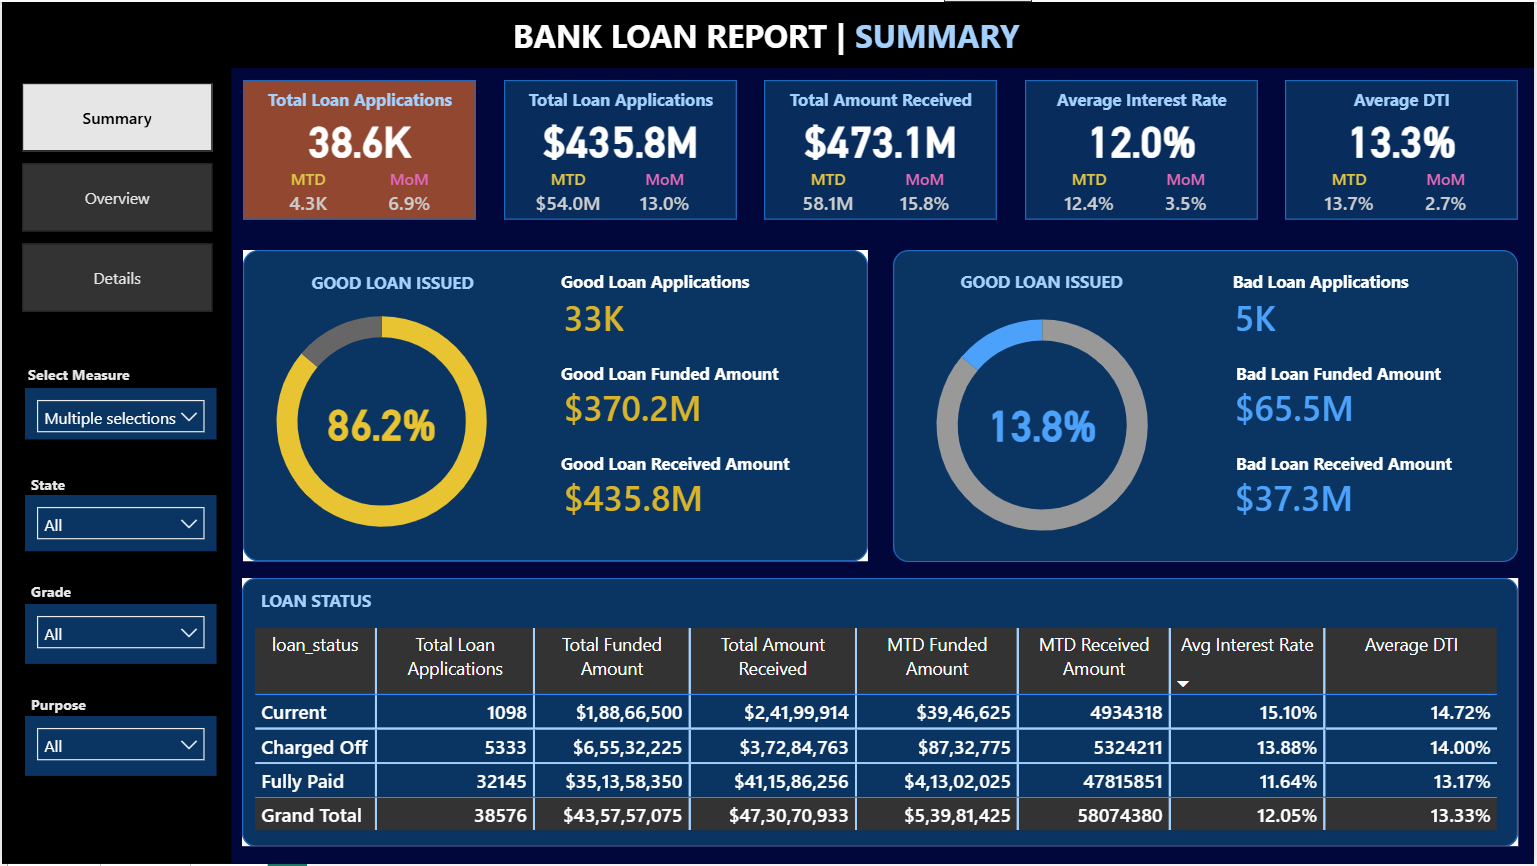

The dashboard page shown, as its layout file describes it:
{"tool":"powerbi","page":{"name":"Summary","canvas":[1280,720],"ordinal":0},"visuals":[{"type":"shape","box":[0,55.4,191.6,664.3],"z":0},{"type":"shape","box":[201.3,65.2,194.5,116.7],"z":0,"group":"g2"},{"type":"shape","box":[419,65.2,194.5,116.7],"z":0,"group":"g1"},{"type":"shape","box":[636.6,65.2,194.5,116.7],"z":0,"group":"g4"},{"type":"shape","box":[854.2,65.2,194.5,116.7],"z":0,"group":"g5"},{"type":"shape","box":[1071.9,65.2,194.5,116.7],"z":0,"group":"g6"},{"type":"card","fields":{"Values":["Bank_Loan_Data.Total Loan Applications"]},"box":[201.3,91.5,194.5,45.7],"z":1000,"group":"g2"},{"type":"card","fields":{"Values":["Bank_Loan_Data.Total FUnded Amount"]},"box":[419,91.5,194.5,45.7],"z":1000,"group":"g1"},{"type":"card","fields":{"Values":["Bank_Loan_Data.Total Amount Received"]},"box":[636.6,91.5,194.5,45.7],"z":1000,"group":"g4"},{"type":"card","fields":{"Values":["Bank_Loan_Data.Avg Interest Rate"]},"box":[854.2,91.5,194.5,45.7],"z":1000,"group":"g5"},{"type":"card","fields":{"Values":["Bank_Loan_Data.Average DTI"]},"box":[1071.9,91.5,194.5,45.7],"z":1000,"group":"g6"},{"type":"shape","box":[200.4,481.5,1065.8,224.3],"z":1000},{"type":"shape","box":[0,0,1280,55],"z":2000},{"type":"textbox","box":[211,67.1,175.1,33.1],"z":2000,"group":"g2"},{"type":"textbox","box":[428.7,67.1,175.1,33.1],"z":2000,"group":"g1"},{"type":"textbox","box":[646.3,67.1,175.1,33.1],"z":2000,"group":"g4"},{"type":"textbox","box":[863.9,67.1,175.1,33.1],"z":2000,"group":"g5"},{"type":"textbox","box":[1081.6,67.1,175.1,33.1],"z":2000,"group":"g6"},{"type":"card","title":"MTD","fields":{"Values":["Bank_Loan_Data.MTD Loan Applications"]},"box":[234,139,43.8,44.7],"z":3000,"group":"g2"},{"type":"card","title":"MTD","fields":{"Values":["Bank_Loan_Data.MTD Funded Amount"]},"box":[439.1,139,67.1,42.8],"z":3000,"group":"g1"},{"type":"card","title":"MTD","fields":{"Values":["Bank_Loan_Data.MTD Received Amount"]},"box":[656.7,139,67.1,42.8],"z":3000,"group":"g4"},{"type":"card","title":"MTD","fields":{"Values":["Bank_Loan_Data.MTD Avg Interest Rate"]},"box":[874.3,139,67.1,42.8],"z":3000,"group":"g5"},{"type":"card","title":"MTD","fields":{"Values":["Bank_Loan_Data.MTD Avg DTI"]},"box":[1092,139,67.1,42.8],"z":3000,"group":"g6"},{"type":"shape","box":[201.3,207.2,522,260],"z":3000},{"type":"card","title":"MoM","fields":{"Values":["Bank_Loan_Data.MoM Loan Application"]},"box":[317.7,139,45.7,44.7],"z":4000,"group":"g2"},{"type":"card","title":"MoM","fields":{"Values":["Bank_Loan_Data.MoM Total Funded Amount"]},"box":[527.3,139,51.6,42.8],"z":4000,"group":"g1"},{"type":"card","title":"MoM","fields":{"Values":["Bank_Loan_Data.MoM Total Received Amount"]},"box":[744.9,139,51.6,42.8],"z":4000,"group":"g4"},{"type":"card","title":"MoM","fields":{"Values":["Bank_Loan_Data.Mom Average Interest"]},"box":[962.5,139,51.6,42.8],"z":4000,"group":"g5"},{"type":"card","title":"MoM","fields":{"Values":["Bank_Loan_Data.MoM Avg Interest Rate"]},"box":[1180.2,139,51.6,42.8],"z":4000,"group":"g6"},{"type":"shape","box":[743.9,207.5,522.3,260.7],"z":4000},{"type":"textbox","box":[1014.4,219,174.7,32.8],"z":5000},{"type":"group","id":"g1","title":"Group 2","box":[419,65.2,194.5,116.7],"z":5001,"group":"g3"},{"type":"textbox","box":[462,370.6,215.5,32.8],"z":6000},{"type":"textbox","box":[462,295.3,207.5,33.7],"z":7000},{"type":"textbox","box":[462,219,174.7,32.8],"z":8000},{"type":"card","fields":{"Values":["Bank_Loan_Data.Good Loan %"]},"box":[259.8,328.1,114.4,45.2],"z":9000},{"type":"textbox","box":[239.2,219.5,174.7,33.1],"z":10000},{"type":"textbox","box":[422.1,3.9,435.7,46.7],"z":11000},{"type":"group","id":"g2","title":"Group 1","box":[201.3,65.2,194.5,118.5],"z":12000},{"type":"group","id":"g3","title":"Group 1","box":[419,65.2,194.5,116.7],"z":13000},{"type":"group","id":"g4","title":"Group 2","box":[636.6,65.2,194.5,116.7],"z":14000},{"type":"group","id":"g5","title":"Group 2","box":[854.2,65.2,194.5,116.7],"z":15000},{"type":"donutChart","fields":{"Category":["Bank_Loan_Data.Good vs Bad loan"],"Y":["Bank_Loan_Data.Total Loan Applications"]},"box":[192.4,235.9,250,229.7],"z":16000},{"type":"group","id":"g6","title":"Group 2","box":[1071.9,65.2,194.5,116.7],"z":17000},{"type":"cardVisual","fields":{"Data":["Bank_Loan_Data.Good Loan Applications","Bank_Loan_Data.Good Loan Funded Amount","Bank_Loan_Data.Good Loan Received Amount"]},"box":[445.1,219,180.9,235.9],"z":18000},{"type":"donutChart","fields":{"Category":["Bank_Loan_Data.Good vs Bad loan"],"Y":["Bank_Loan_Data.Total Loan Applications"]},"box":[743.9,237.6,249.2,230.5],"z":19000},{"type":"textbox","box":[781.2,219,174.7,32.8],"z":20000},{"type":"card","fields":{"Values":["Bank_Loan_Data.Bad Loan %"]},"box":[811.3,328.1,115.3,46.1],"z":21000},{"type":"cardVisual","fields":{"Data":["Bank_Loan_Data.Bad Loan Applications","Bank_Loan_Data.Bad Loan Funded Amount","Bank_Loan_Data.Bad Loan Received Amount"]},"box":[1005.5,219,153.4,235.9],"z":22000},{"type":"textbox","box":[1025.9,295.3,197.7,32.8],"z":23000},{"type":"textbox","box":[1025.9,370.6,197.7,32.8],"z":24000},{"type":"tableEx","fields":{"Values":["Bank_Loan_Data.loan_status","Bank_Loan_Data.Total Loan Applications","Bank_Loan_Data.Total Funded Amount","Bank_Loan_Data.Total Amount Received","Bank_Loan_Data.MTD Funded Amount","Bank_Loan_Data.MTD Received Amount","Bank_Loan_Data.Avg Interest Rate","Bank_Loan_Data.Average DTI"]},"box":[205.7,517.8,1055.2,188],"z":25000},{"type":"textbox","box":[211,485,174.7,32.8],"z":26000},{"type":"slicer","fields":{"Values":["Bank_Loan_Data.address_state"]},"box":[19.5,411.4,159.6,47],"z":27000},{"type":"textbox","box":[19.5,477.9,50.5,32.8],"z":28000},{"type":"textbox","box":[19.5,571.9,93.1,32.8],"z":29000},{"type":"slicer","fields":{"Values":["Bank_Loan_Data.grade"]},"box":[19.5,502.8,159.6,49.7],"z":30000},{"type":"slicer","fields":{"Values":["Bank_Loan_Data.purpose"]},"box":[19.5,596.7,159.6,49.7],"z":31000},{"type":"textbox","box":[19.5,388.4,50.5,32.8],"z":32000},{"type":"pageNavigator","box":[16.8,67.4,159.6,193.3],"z":33000},{"type":"slicer","fields":{"Values":["Select Measure.Select Measure"]},"box":[19.5,322.8,159.6,43.4],"z":34000},{"type":"textbox","box":[16.8,296.2,127.7,32.8],"z":35000}]}

Visuals, with their boxes in screenshot pixels (x1, y1, x2, y2), scaled from the page's 1280x720 canvas onto the 1537x866 screenshot:
shape: detection(0, 67, 230, 865)
shape: detection(242, 78, 475, 219)
shape: detection(503, 78, 737, 219)
shape: detection(764, 78, 998, 219)
shape: detection(1026, 78, 1259, 219)
shape: detection(1287, 78, 1521, 219)
card - Bank_Loan_Data.Total Loan Applications: detection(242, 110, 475, 165)
card - Bank_Loan_Data.Total FUnded Amount: detection(503, 110, 737, 165)
card - Bank_Loan_Data.Total Amount Received: detection(764, 110, 998, 165)
card - Bank_Loan_Data.Avg Interest Rate: detection(1026, 110, 1259, 165)
card - Bank_Loan_Data.Average DTI: detection(1287, 110, 1521, 165)
shape: detection(241, 579, 1520, 849)
shape: detection(0, 0, 1536, 66)
textbox: detection(253, 81, 464, 121)
textbox: detection(515, 81, 725, 121)
textbox: detection(776, 81, 986, 121)
textbox: detection(1037, 81, 1248, 121)
textbox: detection(1299, 81, 1509, 121)
"MTD" card: detection(281, 167, 334, 221)
"MTD" card: detection(527, 167, 608, 219)
"MTD" card: detection(789, 167, 869, 219)
"MTD" card: detection(1050, 167, 1130, 219)
"MTD" card: detection(1311, 167, 1392, 219)
shape: detection(242, 249, 869, 562)
"MoM" card: detection(381, 167, 436, 221)
"MoM" card: detection(633, 167, 695, 219)
"MoM" card: detection(894, 167, 956, 219)
"MoM" card: detection(1156, 167, 1218, 219)
"MoM" card: detection(1417, 167, 1479, 219)
shape: detection(893, 250, 1520, 563)
textbox: detection(1218, 263, 1428, 303)
"Group 2" group: detection(503, 78, 737, 219)
textbox: detection(555, 446, 814, 485)
textbox: detection(555, 355, 804, 396)
textbox: detection(555, 263, 765, 303)
card - Bank_Loan_Data.Good Loan %: detection(312, 395, 449, 449)
textbox: detection(287, 264, 497, 304)
textbox: detection(507, 5, 1030, 61)
"Group 1" group: detection(242, 78, 475, 221)
"Group 1" group: detection(503, 78, 737, 219)
"Group 2" group: detection(764, 78, 998, 219)
"Group 2" group: detection(1026, 78, 1259, 219)
donutChart - Bank_Loan_Data.Good vs Bad loan x Bank_Loan_Data.Total Loan Applications: detection(231, 284, 531, 560)
"Group 2" group: detection(1287, 78, 1521, 219)
cardVisual - Bank_Loan_Data.Good Loan Applications x Bank_Loan_Data.Good Loan Funded Amount: detection(534, 263, 752, 547)
donutChart - Bank_Loan_Data.Good vs Bad loan x Bank_Loan_Data.Total Loan Applications: detection(893, 286, 1192, 563)
textbox: detection(938, 263, 1148, 303)
card - Bank_Loan_Data.Bad Loan %: detection(974, 395, 1113, 450)
cardVisual - Bank_Loan_Data.Bad Loan Applications x Bank_Loan_Data.Bad Loan Funded Amount: detection(1207, 263, 1392, 547)
textbox: detection(1232, 355, 1469, 395)
textbox: detection(1232, 446, 1469, 485)
tableEx - Bank_Loan_Data.loan_status x Bank_Loan_Data.Total Loan Applications: detection(247, 623, 1514, 849)
textbox: detection(253, 583, 463, 623)
slicer - Bank_Loan_Data.address_state: detection(23, 495, 215, 551)
textbox: detection(23, 575, 84, 614)
textbox: detection(23, 688, 135, 727)
slicer - Bank_Loan_Data.grade: detection(23, 605, 215, 665)
slicer - Bank_Loan_Data.purpose: detection(23, 718, 215, 777)
textbox: detection(23, 467, 84, 507)
pageNavigator: detection(20, 81, 212, 314)
slicer - Select Measure.Select Measure: detection(23, 388, 215, 440)
textbox: detection(20, 356, 174, 396)
